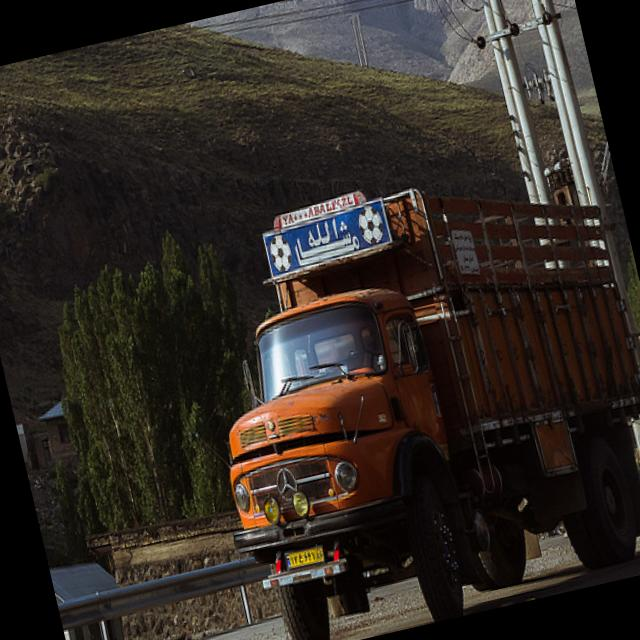Vehicle: (167, 144, 640, 640)
